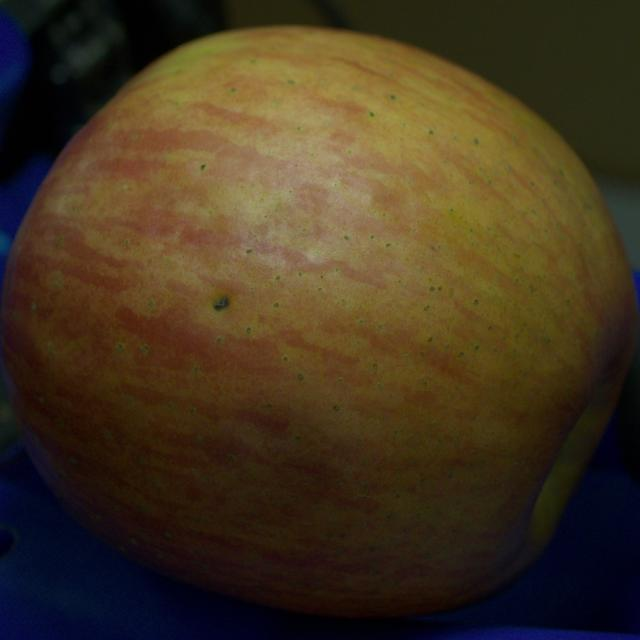apple: (0, 27, 638, 617)
pest: (214, 296, 228, 310)
